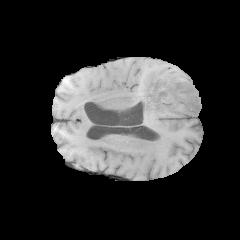glioma: (136, 64, 201, 125)
